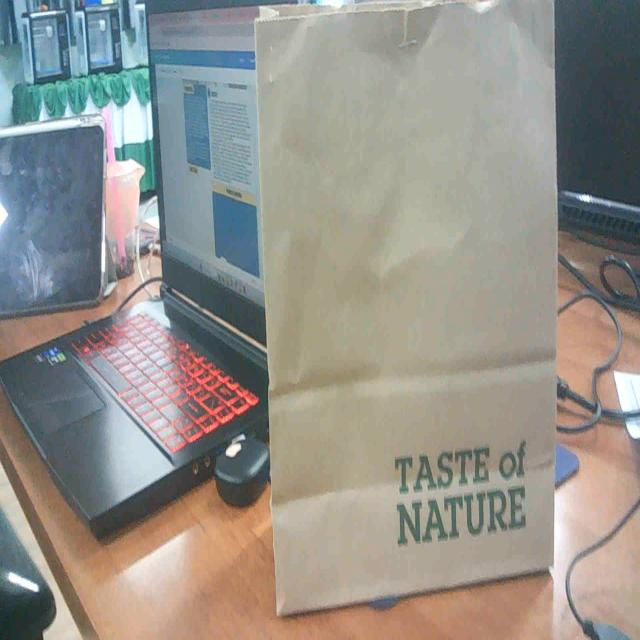bag: (236, 0, 571, 618)
